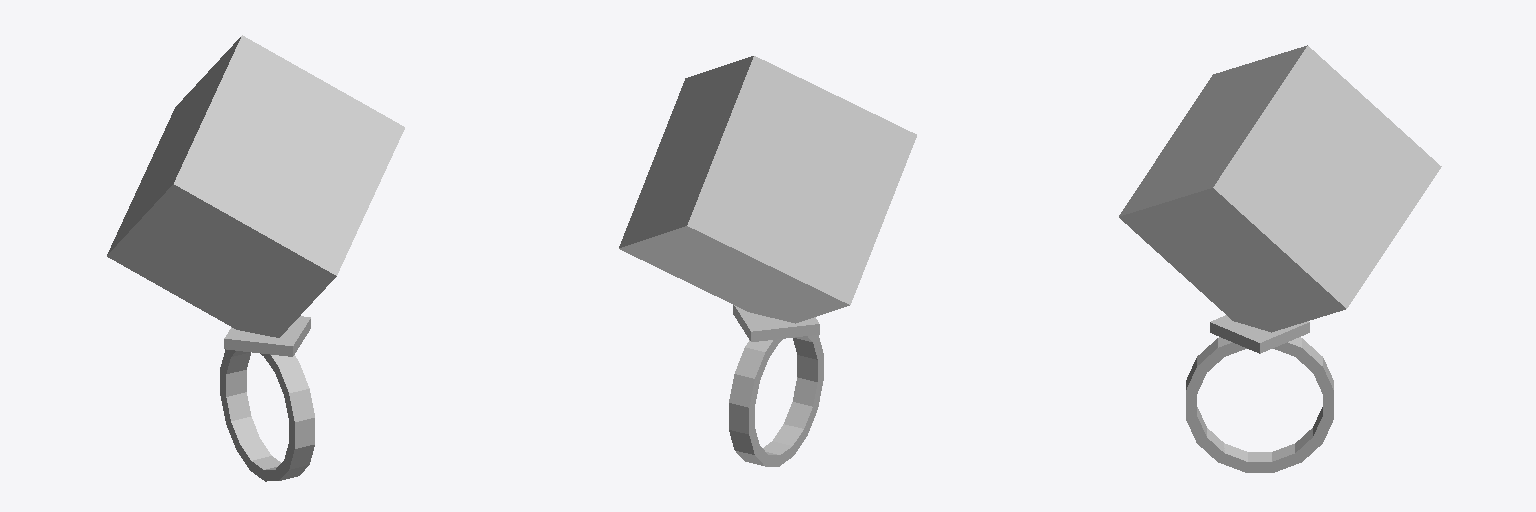
The model's file is giant_diamond_ring.obj.
3 views of the same model, side by side, from view 1: azimuth 30°, elevation 25°; view 2: azimuth 150°, elevation 25°; view 3: azimuth 270°, elevation 25° (orthographic).
Parts seen in each view (by area): view 1: cube; view 2: cube; view 3: cube.
Boxes of the visible parts, x1=… form: cube: x1=107, y1=35, x2=404, y2=481; cube: x1=619, y1=56, x2=916, y2=466; cube: x1=1119, y1=45, x2=1441, y2=472.
Size of the model in its own units: 1.41 by 2.45 by 1.71.